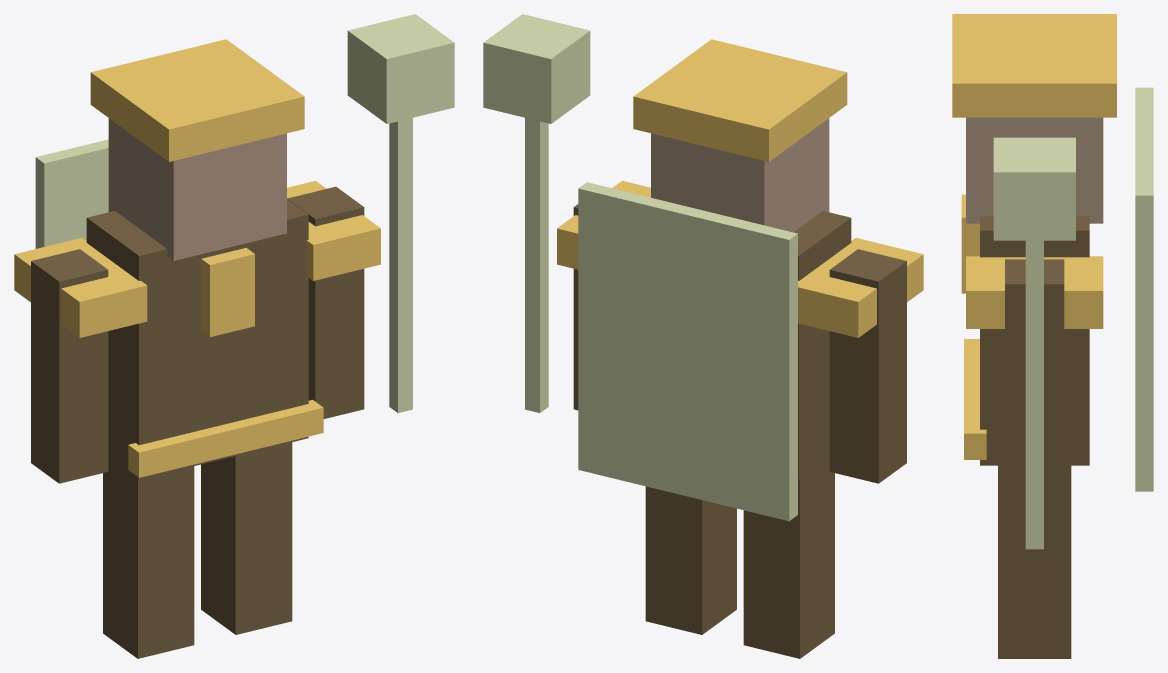
The model's file is 04_makoa_spirebound_herald_at_listening.glb.
3 views of the same model, side by side, from view 1: azimuth 30°, elevation 25°; view 2: azimuth 150°, elevation 25°; view 3: azimuth 270°, elevation 25° (orthographic). The views are drawn at different scales.
Visible parts, largest first — view 1: Makoa Spirebound, Herald at Listening; view 2: Makoa Spirebound, Herald at Listening; view 3: Makoa Spirebound, Herald at Listening.
Boxes of the visible parts, x1,y1,x2,y2 form: Makoa Spirebound, Herald at Listening: [14, 14, 454, 658]; Makoa Spirebound, Herald at Listening: [483, 14, 923, 658]; Makoa Spirebound, Herald at Listening: [952, 14, 1153, 658].
Bounding box in the file's own units: 1.08 × 1.44 × 0.4606.
